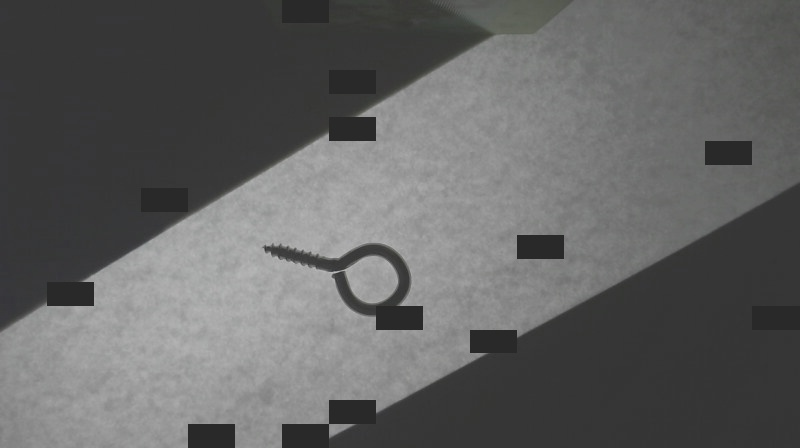O001: (256, 239, 413, 320)
